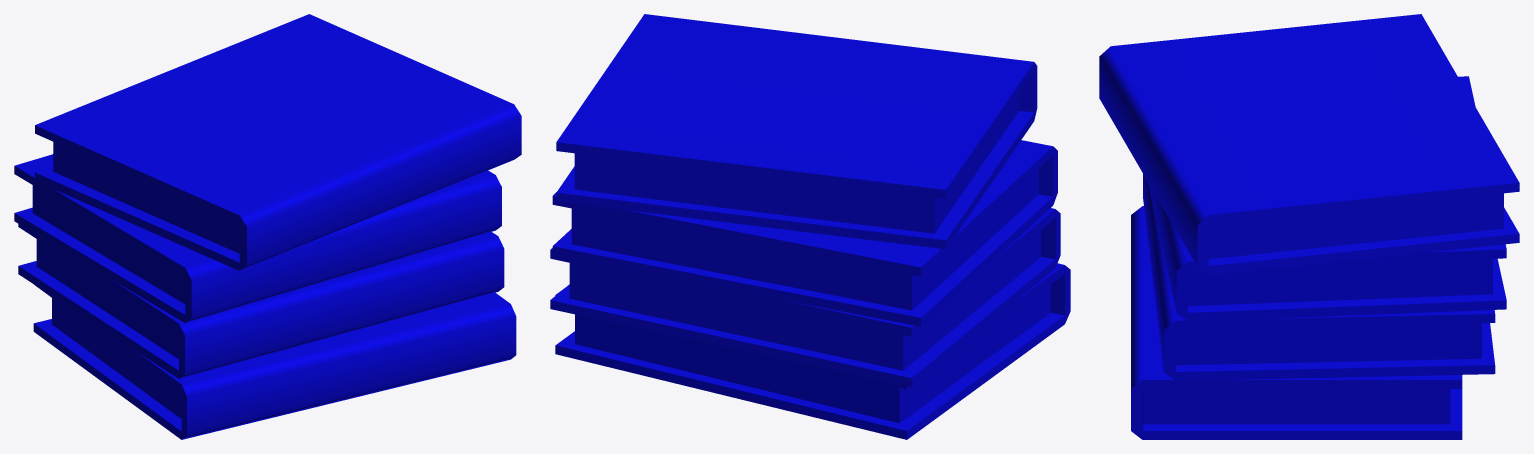
The model's file is BINDERS_LP.fbx.
The picture shows the model from 3 angles, left to right: view 1: azimuth 30°, elevation 25°; view 2: azimuth 150°, elevation 25°; view 3: azimuth 270°, elevation 25°; orthographic projection. The views are drawn at different scales.
Parts seen in each view (by area): view 1: pCube4, pCube1, pCube2, pCube3; view 2: pCube4, pCube3, pCube2, pCube1; view 3: pCube4, pCube1, pCube2, pCube3.
Boxes of the visible parts, x1,y1,x2,y2 form: pCube4: [35, 14, 521, 270]; pCube1: [33, 285, 516, 439]; pCube2: [18, 224, 504, 378]; pCube3: [14, 154, 501, 323]; pCube4: [556, 14, 1037, 249]; pCube3: [552, 140, 1057, 326]; pCube2: [550, 208, 1060, 386]; pCube1: [555, 263, 1070, 439]; pCube4: [1099, 14, 1519, 274]; pCube1: [1131, 206, 1462, 439]; pCube2: [1143, 174, 1495, 380]; pCube3: [1148, 76, 1506, 321].
Size of the model in its own units: 25.18 by 14.11 by 22.11.
